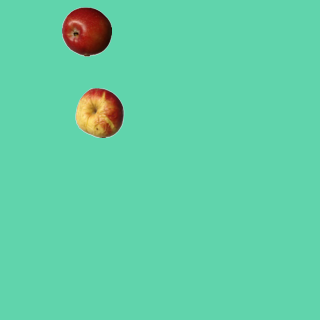Apple Braeburn: (61, 6, 111, 56)
Apple Red Yellow 1: (74, 87, 124, 137)
